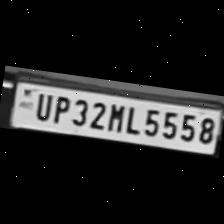2: (86, 97, 107, 130)
3: (68, 95, 90, 128)
5: (138, 105, 162, 138), (158, 107, 180, 139), (176, 110, 198, 141)
8: (195, 114, 218, 145)
L: (122, 102, 142, 136)
M: (104, 100, 127, 133)
P: (49, 92, 71, 125)
U: (31, 89, 54, 121)
